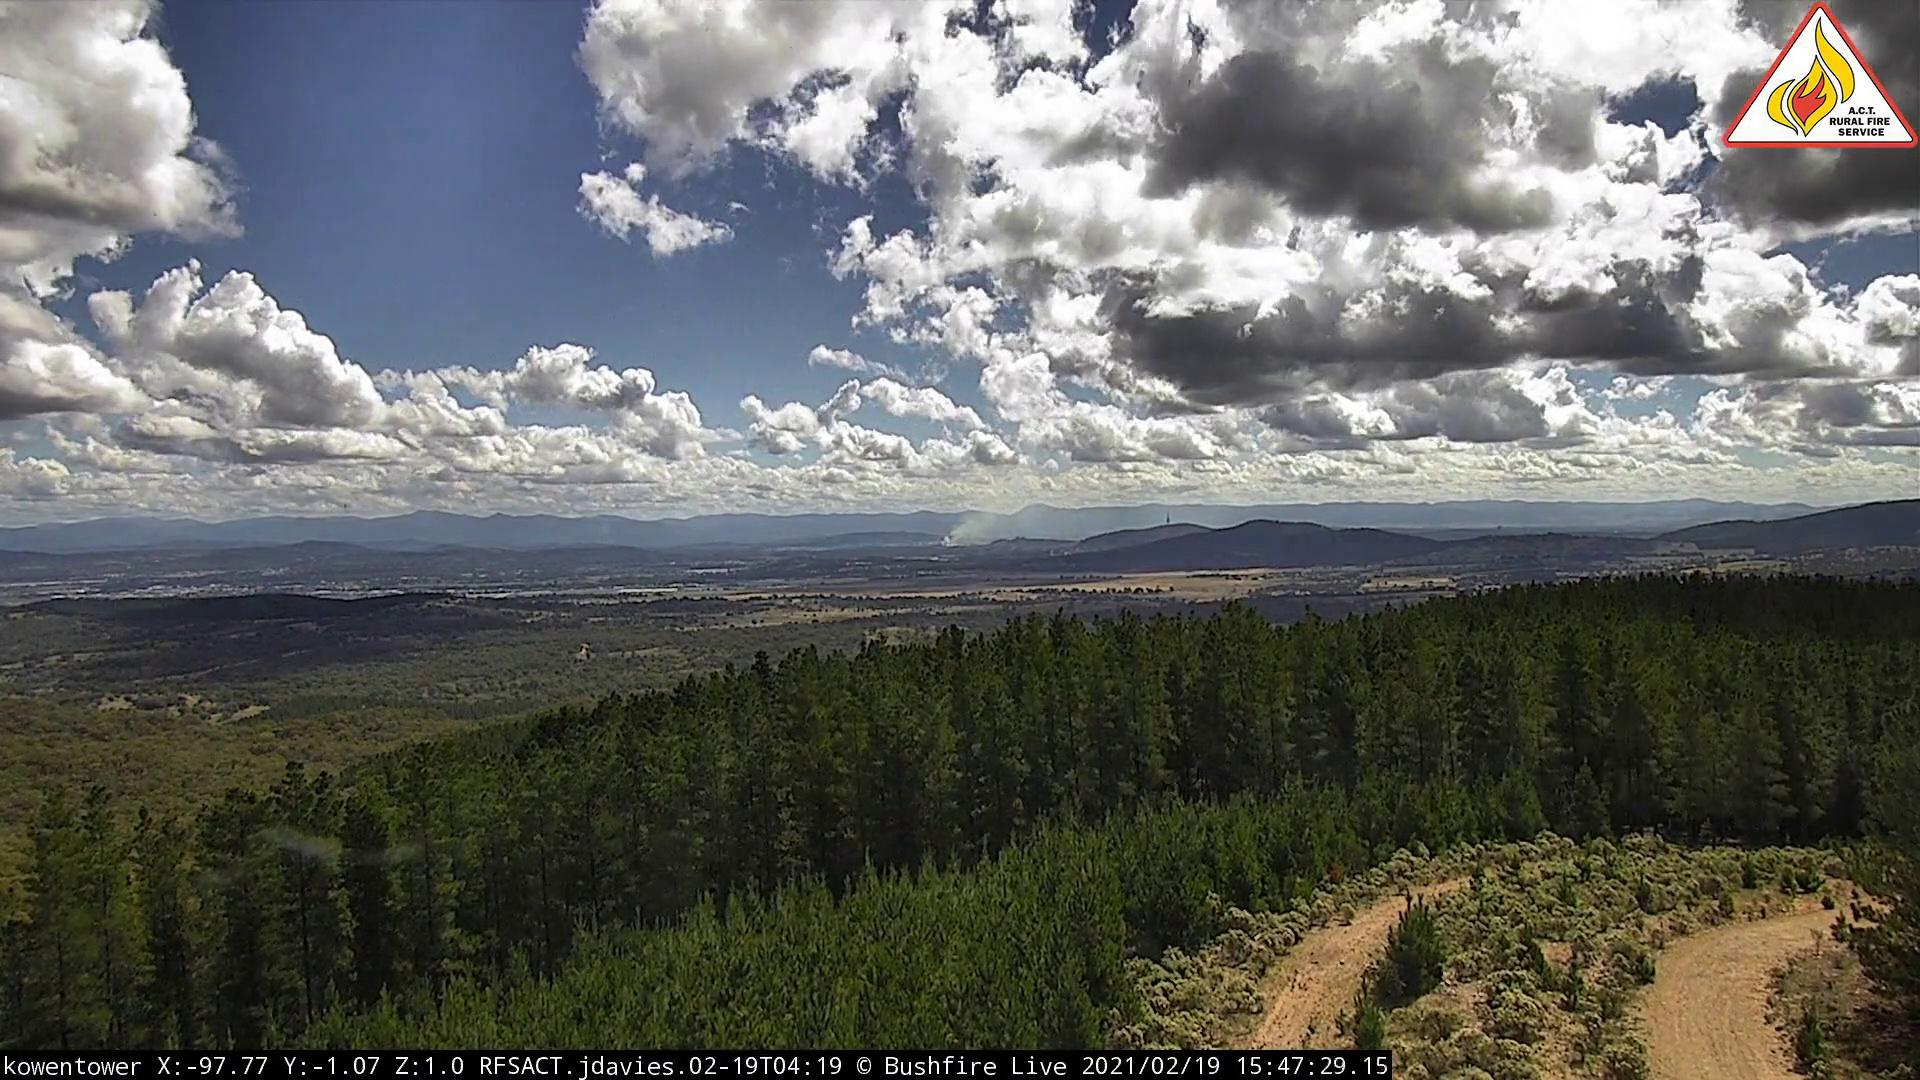Smoke: (942, 505, 1011, 550), (599, 531, 622, 555)
